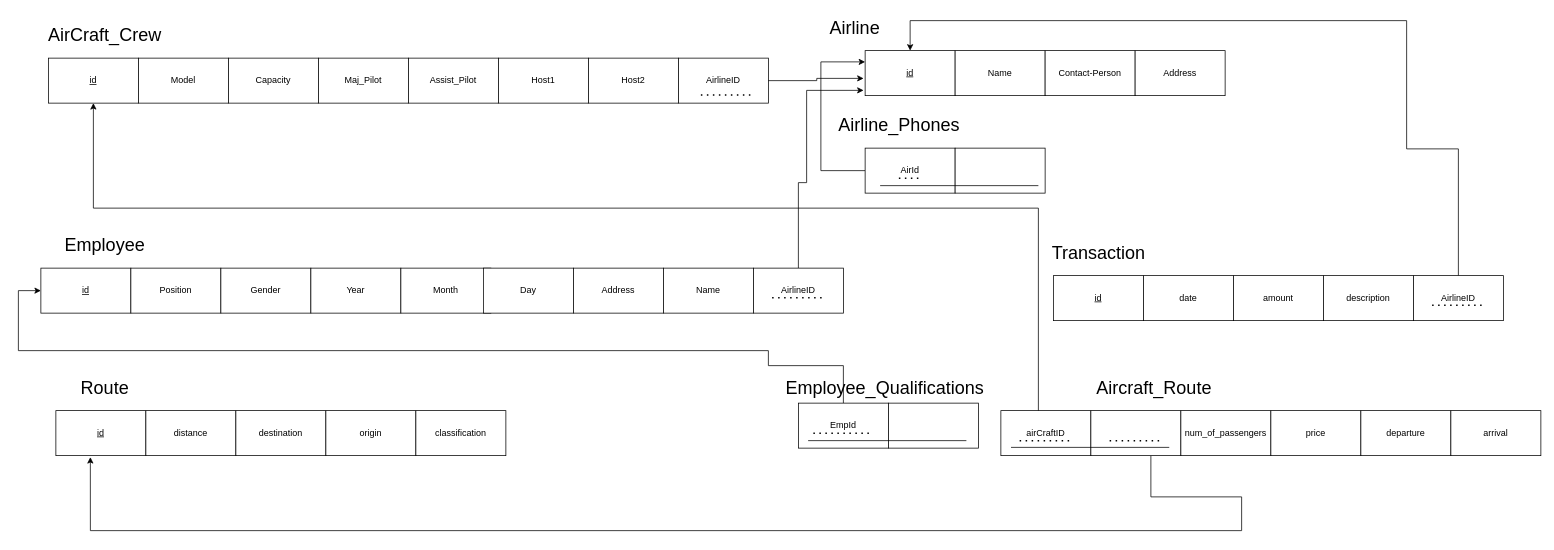
Some shapes in this 1554 by 550 pixel diagram are drawn without their labels. Each missing label, with the box of its shape:
Phones: (954, 147, 1045, 193)
Qualifications: (888, 402, 978, 448)
RouteID: (1090, 410, 1181, 456)
